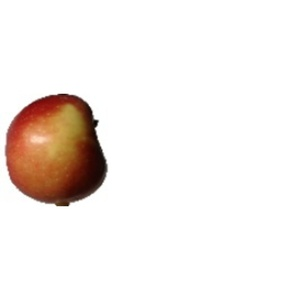maçã braeburn: (3, 87, 109, 203)
